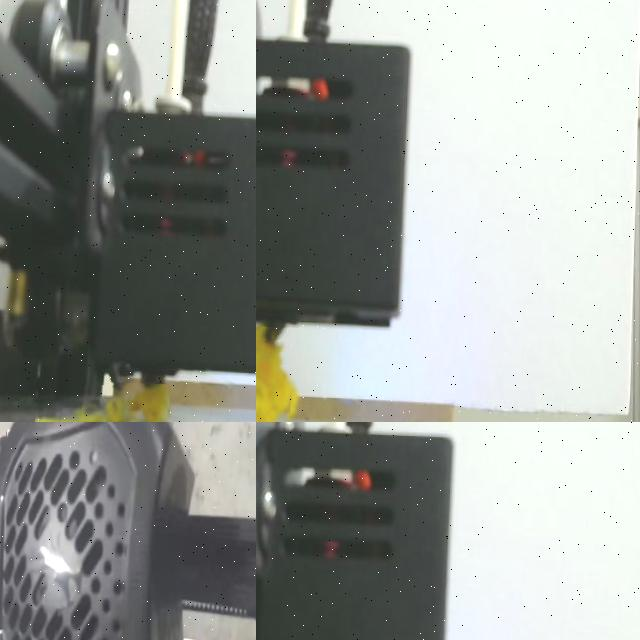spaghetti: (35, 384, 169, 422), (256, 326, 293, 422)
